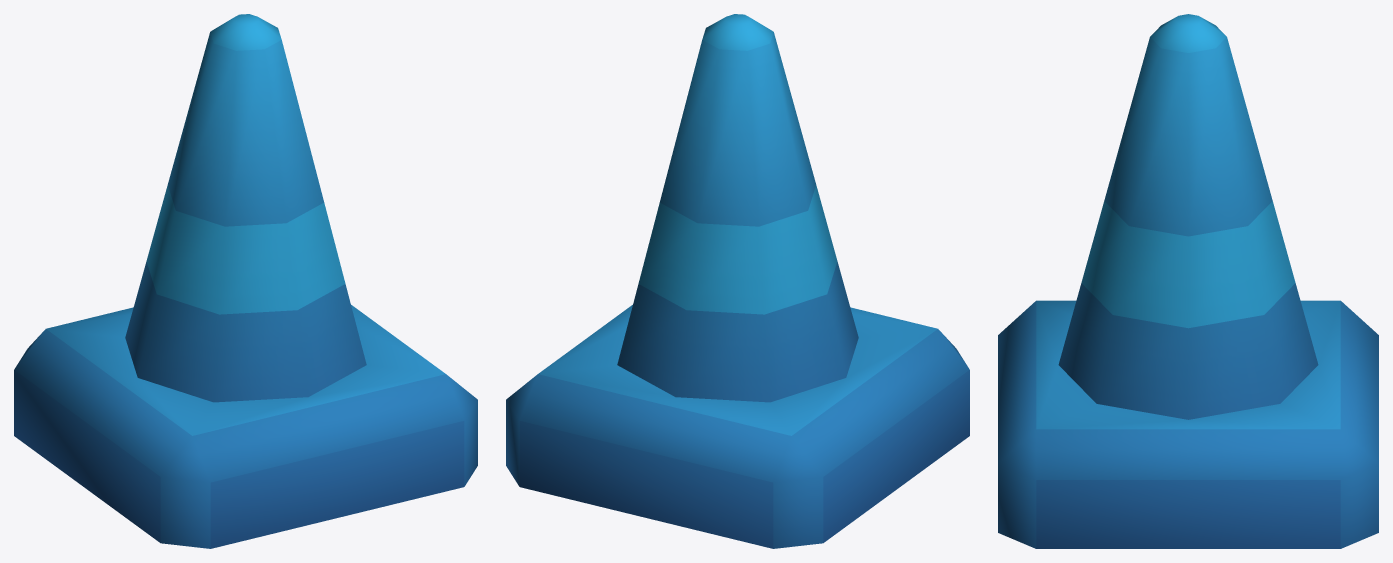
Rendered from cone-blue.glb.
The picture shows the model from 3 angles, left to right: view 1: azimuth 30°, elevation 25°; view 2: azimuth 150°, elevation 25°; view 3: azimuth 270°, elevation 25°; orthographic projection. The views are drawn at different scales.
Visible parts, largest first — view 1: cone_blue; view 2: cone_blue; view 3: cone_blue.
Boxes of the visible parts, x1,y1,x2,y2 form: cone_blue: [14, 14, 477, 548]; cone_blue: [506, 14, 969, 548]; cone_blue: [998, 14, 1378, 548].
Size of the model in its own units: 0.5 by 0.65 by 0.5.
Materials: 1 (1 with a texture image).
